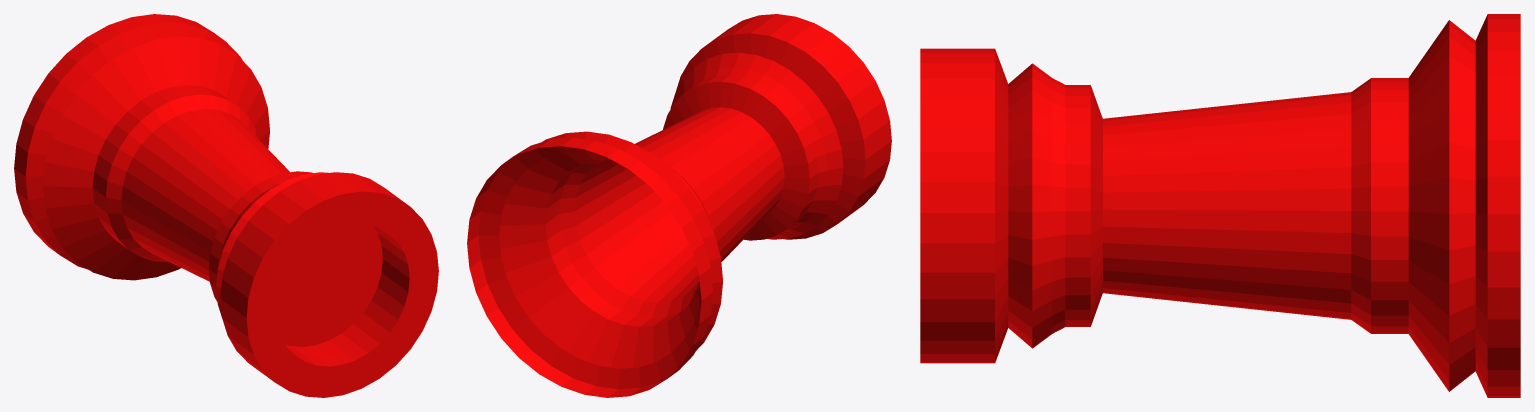
Rendered from torreP.obj.
3 renders of one model, left to right at view 1: azimuth 30°, elevation 25°; view 2: azimuth 150°, elevation 25°; view 3: azimuth 270°, elevation 25°, orthographic. The views are drawn at different scales.
Parts seen in each view (by area): view 1: Circle.005; view 2: Circle.005; view 3: Circle.005.
Part boxes in pixels (box(x1,y1,x2,y2)): Circle.005: box(14, 14, 438, 397); Circle.005: box(467, 14, 891, 397); Circle.005: box(920, 14, 1520, 397).
Size of the model in its own units: 1.36 by 1.36 by 2.12.
